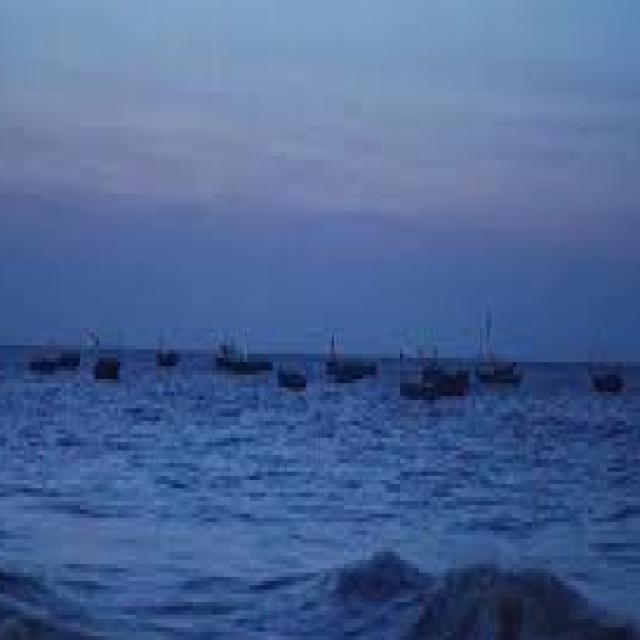fishing boat: (403, 328, 468, 404), (472, 315, 532, 389), (28, 315, 80, 384), (210, 329, 277, 379), (586, 330, 626, 405), (326, 333, 375, 385), (95, 345, 129, 384), (274, 360, 310, 396), (152, 321, 182, 364)
